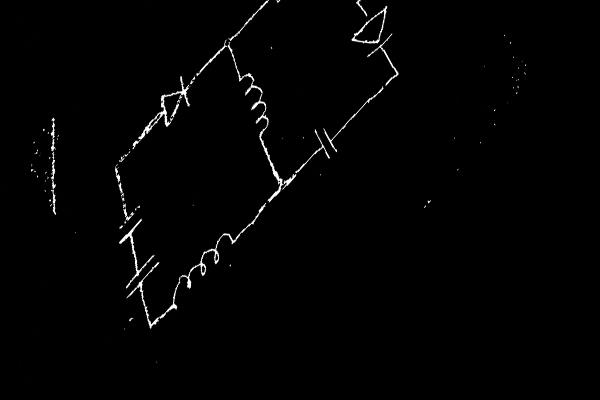capacitor: (118, 245, 166, 307), (107, 196, 151, 255), (307, 113, 344, 168)
diode: (343, 0, 404, 72), (147, 67, 201, 139), (259, 0, 304, 13)
inductor: (155, 216, 244, 326), (223, 59, 285, 155), (328, 0, 376, 16)
